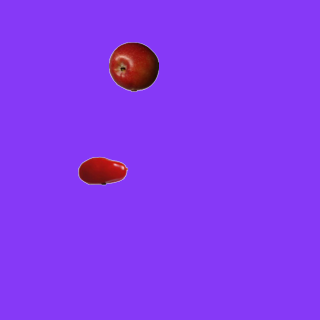Apple Braeburn: (108, 41, 158, 91)
Tomato 2: (77, 145, 127, 195)
